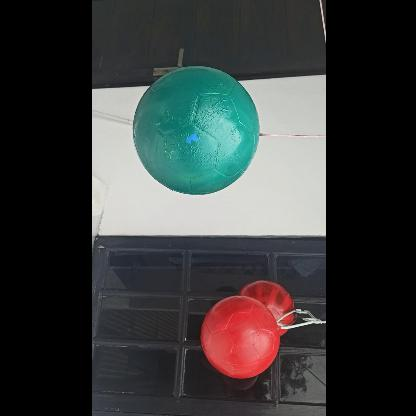red_ball: (200, 298, 284, 380)
